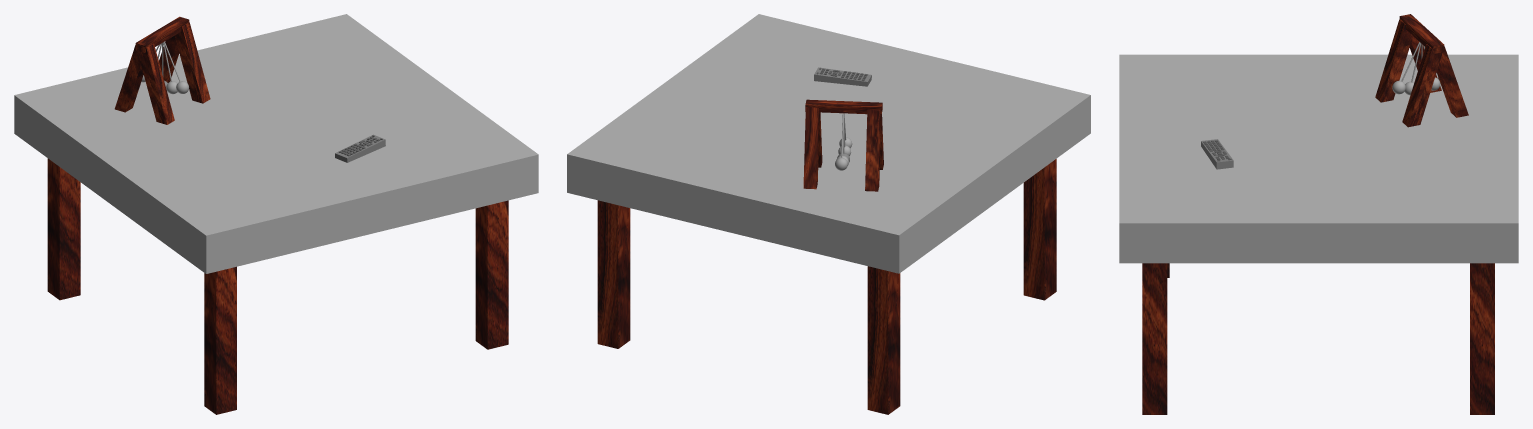
The model's file is Stage3Table.fbx.
3 views of the same model, side by side, from view 1: azimuth 30°, elevation 25°; view 2: azimuth 150°, elevation 25°; view 3: azimuth 270°, elevation 25° (orthographic). The views are drawn at different scales.
Visible parts, largest first — view 1: pCube63, pCube57, pasted__pCube97; view 2: pCube63, pCube57, pasted__pCube97; view 3: pCube63, pCube57, pasted__pCube97.
Boxes of the visible parts, <box> form: pCube63: <box>14,14,538,414</box>; pCube57: <box>114,16,210,124</box>; pasted__pCube97: <box>335,134,385,162</box>; pCube63: <box>567,14,1090,414</box>; pCube57: <box>803,99,883,191</box>; pasted__pCube97: <box>814,67,871,86</box>; pCube63: <box>1119,54,1518,414</box>; pCube57: <box>1375,14,1468,127</box>; pasted__pCube97: <box>1201,139,1233,169</box>.
Bounding box in the file's own units: 1 × 0.7661 × 1.
7 materials, 1 textured.
